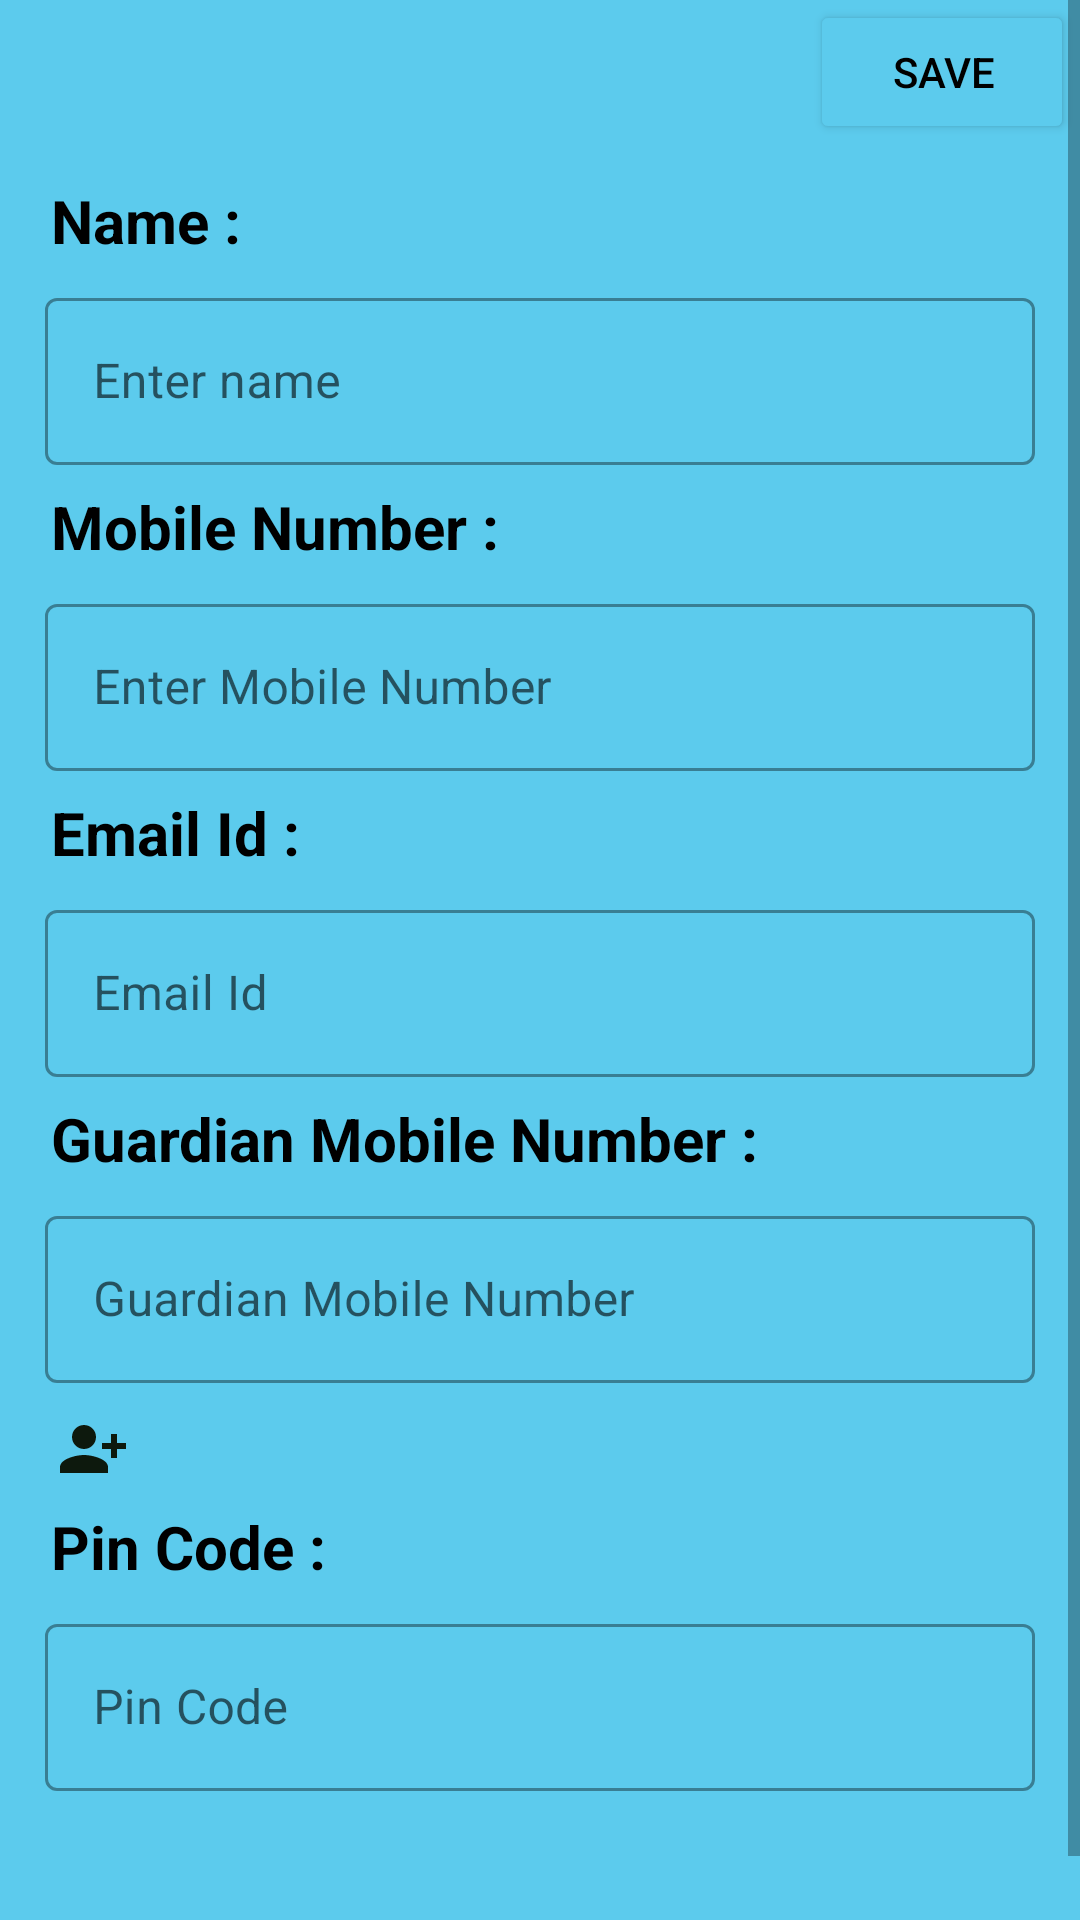

Screen size 1080*1920. Icon name, then its center in pixels as point (x, y):
add number: point (93, 1449)
